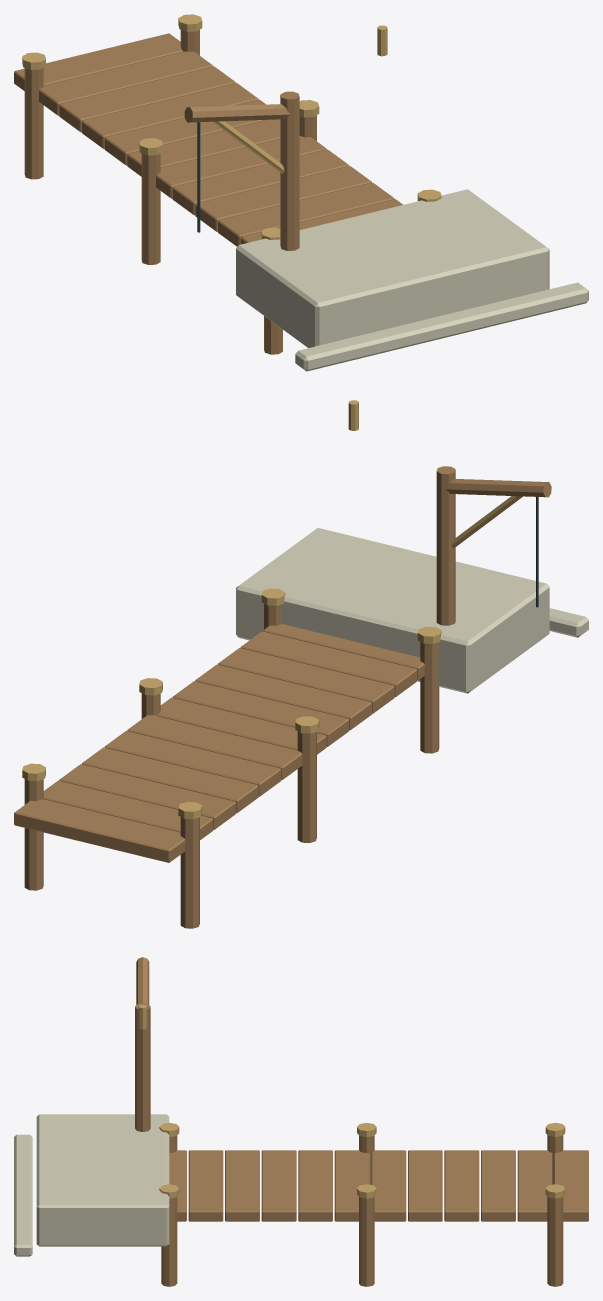
File: level_11.glb
3 renders of one model, top to bottom at view 1: azimuth 30°, elevation 25°; view 2: azimuth 150°, elevation 25°; view 3: azimuth 270°, elevation 25°, orthographic. The views are drawn at different scales.
Visible parts, largest first — view 1: dock — level 11; view 2: dock — level 11; view 3: dock — level 11.
Boxes of the visible parts, left/top/right/bottom form: dock — level 11: left=14, top=14, right=588, bottom=371; dock — level 11: left=14, top=400, right=588, bottom=928; dock — level 11: left=14, top=957, right=588, bottom=1286.
Size of the model in its own units: 4.53 by 4.19 by 8.66.
